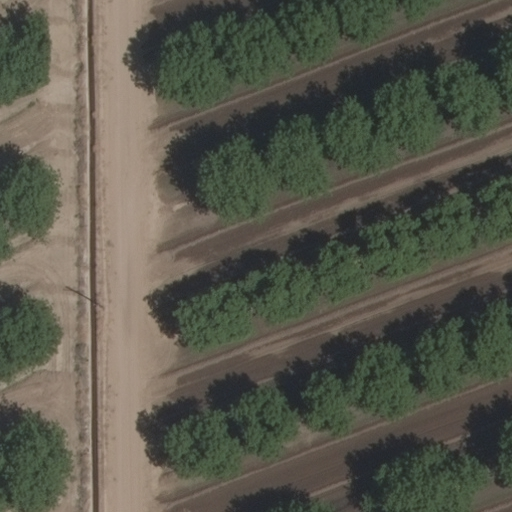DT: (88, 292, 106, 313)
